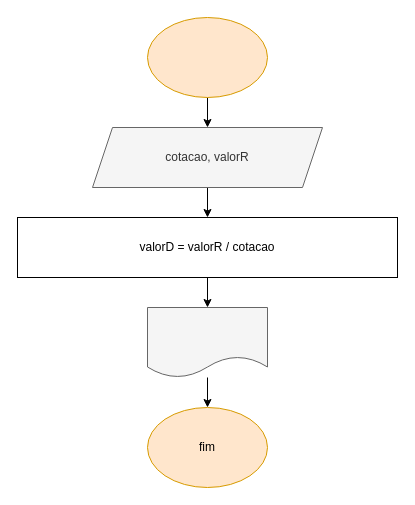
Some shapes in this 415 by 505 pixel diagram are drawn without their labels. Here are the shapes that lost their labels. From the top down, the box of each, then its label:
(146, 16, 268, 98): inicio
(146, 306, 268, 378): valorD
